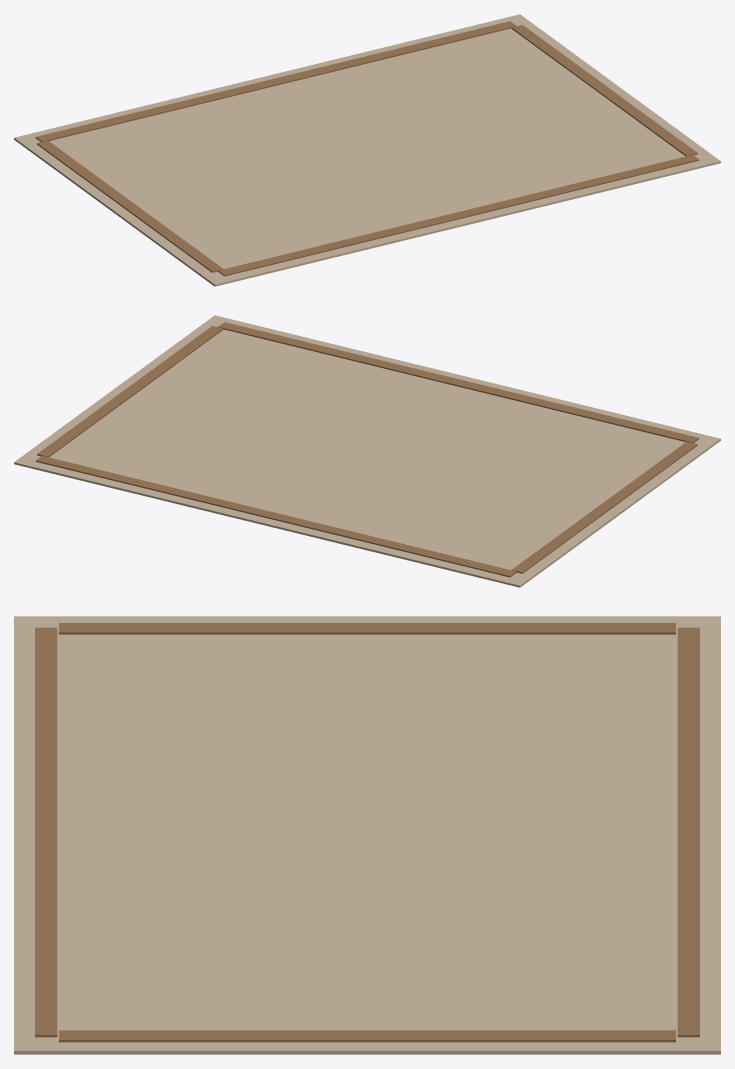
3 renders of one model, top to bottom at view 1: azimuth 30°, elevation 25°; view 2: azimuth 150°, elevation 25°; view 3: azimuth 270°, elevation 25°, orthographic. The views are drawn at different scales.
Parts seen in each view (by area): view 1: rug-base, border-front, border-back, border-left, border-right; view 2: rug-base, border-back, border-front, border-left, border-right; view 3: rug-base, border-front, border-back, border-right, border-left.
Part boxes in pixels (x1,y1,x2,y2): rug-base: (14, 14, 720, 286); border-front: (218, 155, 699, 276); border-back: (35, 21, 516, 142); border-left: (37, 140, 222, 272); border-right: (511, 25, 697, 156); rug-base: (14, 315, 720, 587); border-back: (35, 456, 516, 577); border-front: (218, 322, 699, 443); border-left: (512, 441, 697, 573); border-right: (37, 326, 223, 457); rug-base: (14, 616, 720, 1054); border-front: (35, 627, 57, 1037); border-back: (677, 627, 699, 1037); border-right: (59, 1030, 675, 1042); border-left: (59, 623, 675, 634).
Size of the model in its own units: 1.6 by 0.01 by 1.1.
